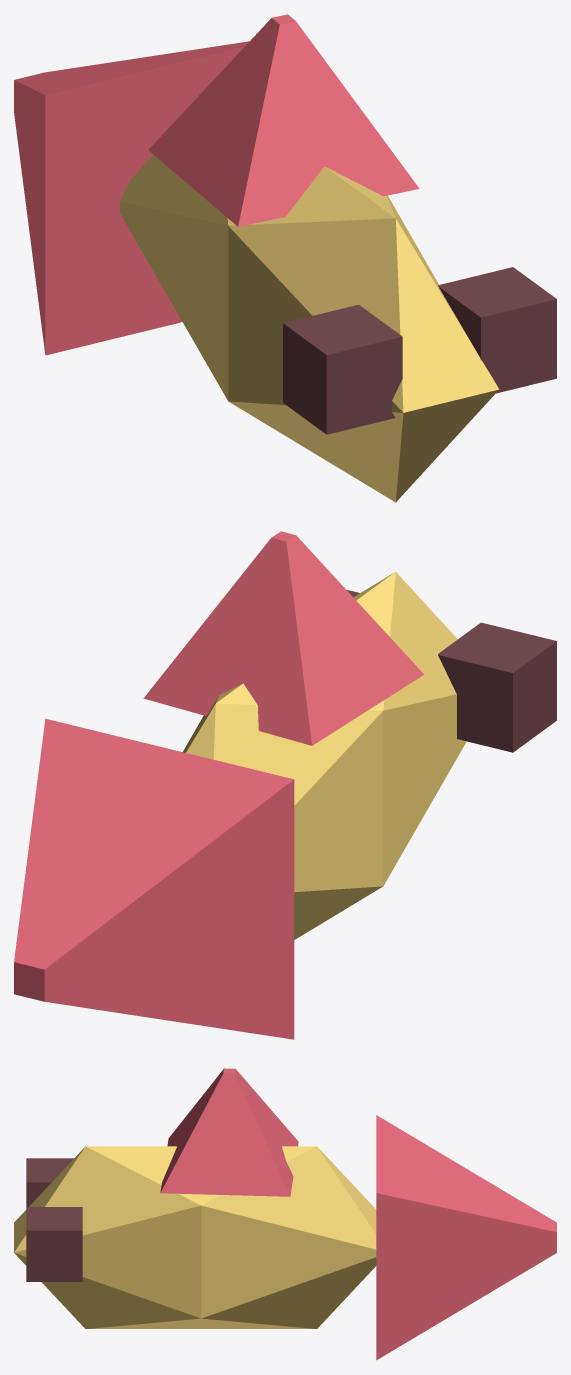
The model's file is fish_s.glb.
The picture shows the model from 3 angles, top to bottom: view 1: azimuth 30°, elevation 25°; view 2: azimuth 150°, elevation 25°; view 3: azimuth 270°, elevation 25°; orthographic projection. The views are drawn at different scales.
Visible parts, largest first — view 1: Body, Tail, Dorsal, EyeR, EyeL; view 2: Tail, Body, Dorsal, EyeR; view 3: Body, Tail, Dorsal, EyeL, EyeR.
Boxes of the visible parts, <box> form: Body: <box>120,155,499,502</box>; Tail: <box>14,41,249,355</box>; Dorsal: <box>148,14,419,226</box>; EyeR: <box>283,305,402,434</box>; EyeL: <box>438,267,556,393</box>; Tail: <box>14,718,294,1039</box>; Body: <box>183,572,466,939</box>; Dorsal: <box>143,531,423,745</box>; EyeR: <box>438,622,556,752</box>; Body: <box>14,1146,376,1328</box>; Tail: <box>376,1115,556,1360</box>; Dorsal: <box>160,1068,298,1196</box>; EyeL: <box>26,1207,82,1281</box>; EyeR: <box>26,1158,73,1206</box>.
Size of the model in its own units: 0.2291 by 0.353 by 0.6732.
